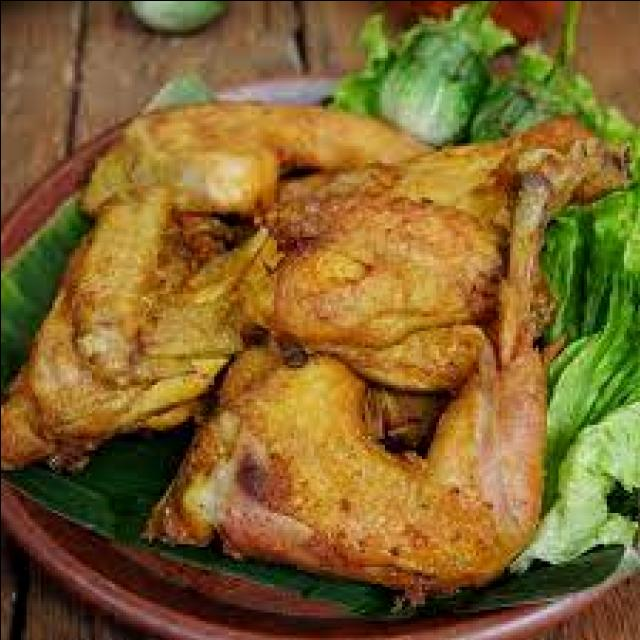ayam goreng: (137, 176, 552, 603), (0, 102, 432, 475)
